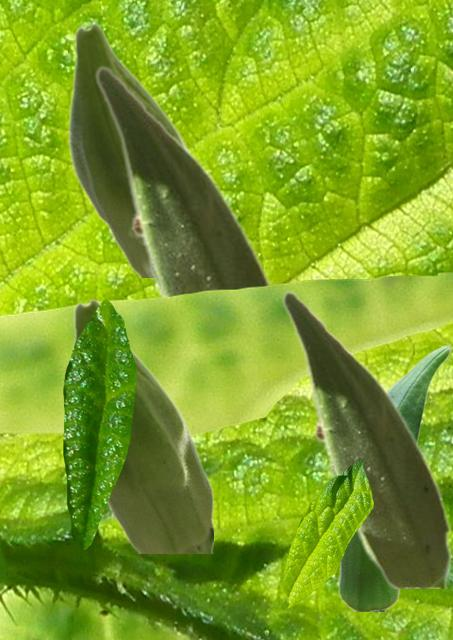okra: (94, 64, 282, 401), (281, 289, 449, 587), (69, 298, 212, 552), (67, 22, 189, 276), (337, 344, 451, 610)
